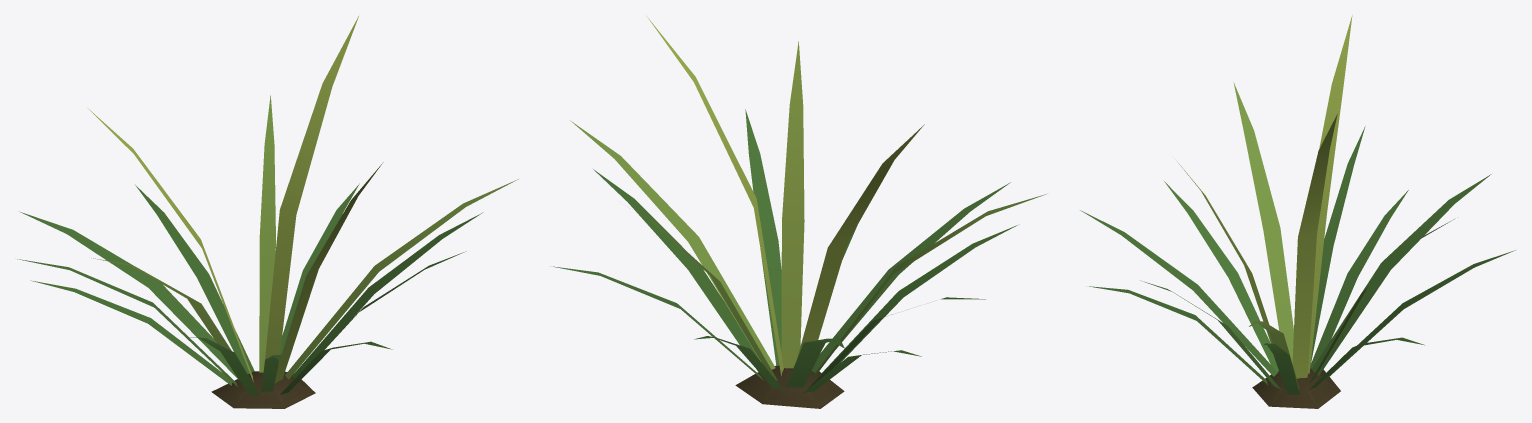
The model's file is grass_tuft_3.glb.
The picture shows the model from 3 angles, left to right: view 1: azimuth 30°, elevation 25°; view 2: azimuth 150°, elevation 25°; view 3: azimuth 270°, elevation 25°; orthographic projection. The views are drawn at different scales.
Parts seen in each view (by area): view 1: grass_tuft_3; view 2: grass_tuft_3; view 3: grass_tuft_3.
Part boxes in pixels (x1,y1,x2,y2): grass_tuft_3: [17, 16, 518, 408]; grass_tuft_3: [551, 17, 1047, 408]; grass_tuft_3: [1080, 15, 1515, 408].
Size of the model in its own units: 0.35 by 0.25 by 0.3.
2 materials, 2 textured.
